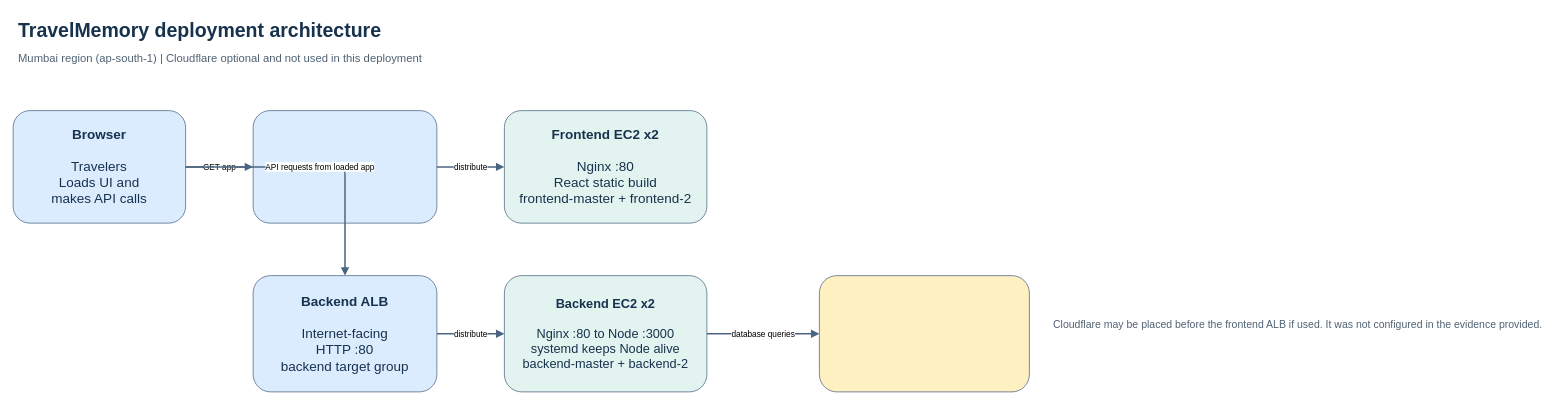
Some shapes in this 1556 by 405 pixel diagram are drawn without their labels. The centre of each missing label's shape, as x and y in pixels:
Frontend ALB Internet-facing HTTP :80 frontend target group: the point at 344,166
MongoDB Atlas Managed database travelmemory database: the point at 924,333
